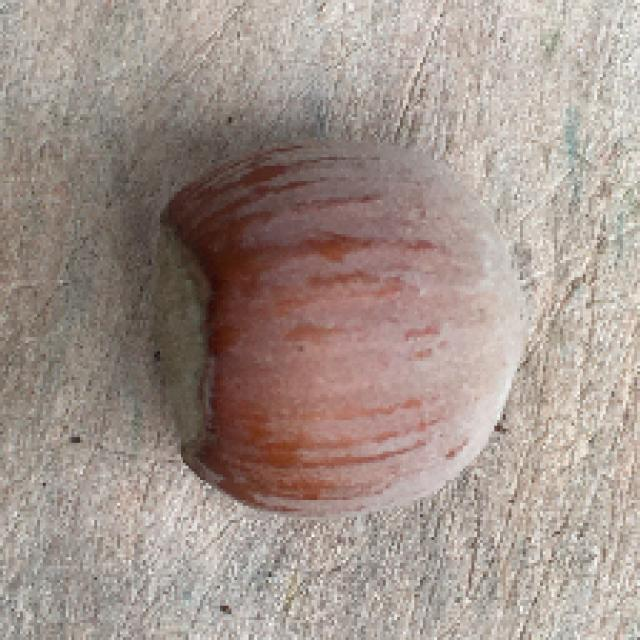QualityHazelnut: (147, 140, 526, 526)
